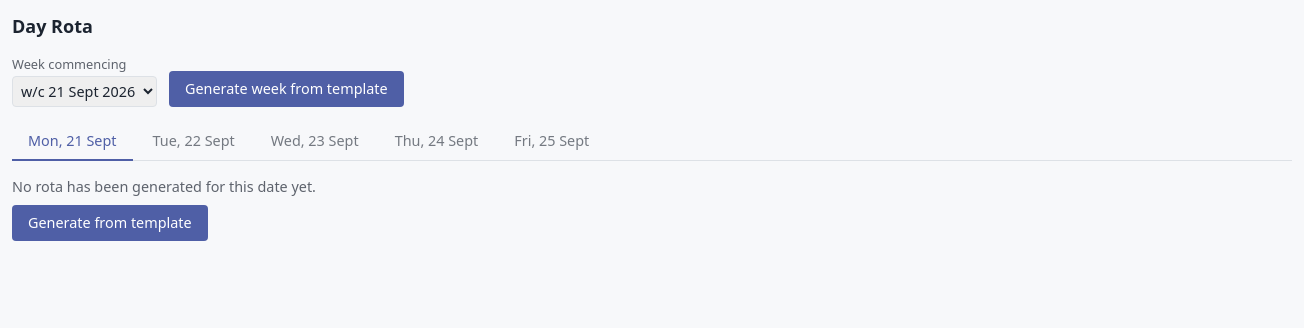
Test case: ReceptionDayPage › switching to another weekday's tab loads that day independently
This screenshot has width=1304, height=328.
Expected: the button "Generate from template" is shown, x1=12 y1=205 x2=208 y2=241
Click the tab "Tue, 22 Sept" at [194, 142], box x1=136 y1=123 x2=251 y2=161
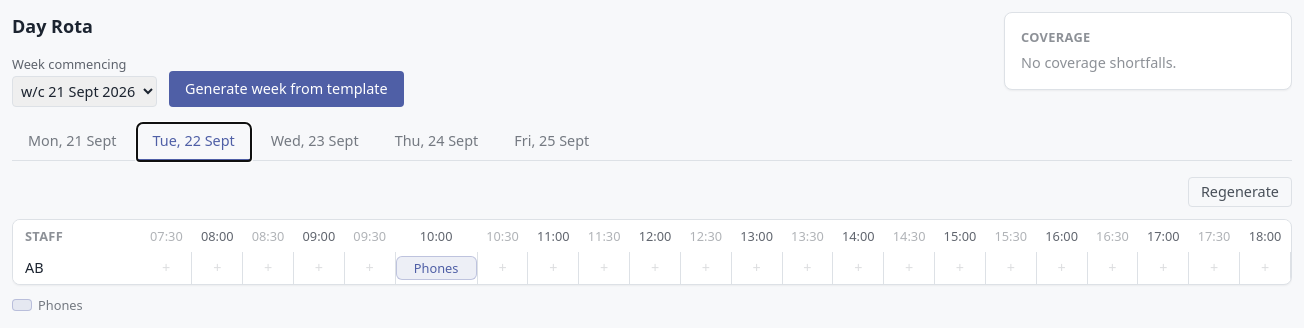
Result: the cell with test id "reception-cell-1-10" is shown at x1=395 y1=252 x2=477 y2=284
Result: the button "Generate from template" is gone
